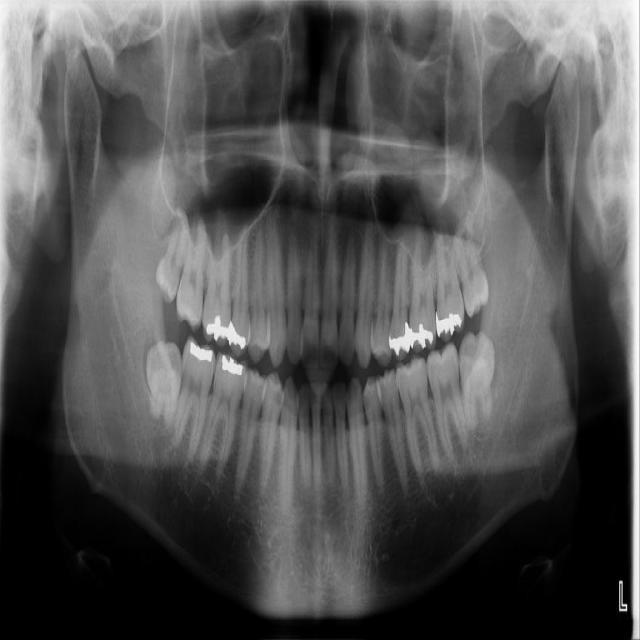3M ESPE Implant: (150, 190, 197, 304)
52: (423, 341, 471, 471), (180, 334, 218, 397), (209, 350, 251, 406), (200, 289, 233, 348), (436, 286, 465, 343), (407, 306, 437, 353), (227, 303, 252, 357), (387, 312, 411, 362)
73: (556, 576, 568, 578)
BioHorizons Implant: (433, 211, 465, 343)
BioLife Implant: (447, 208, 494, 319)
Biomet 3i Implant: (459, 331, 496, 428)
Caries: (175, 204, 207, 329)
Implant: (169, 334, 219, 465)
Keystone Dental Implant: (143, 338, 185, 423)
